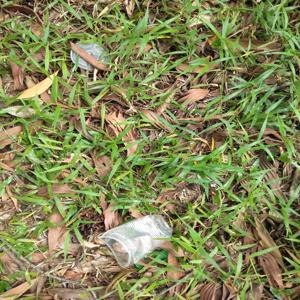plastic: (101, 210, 178, 262), (65, 32, 117, 75)
